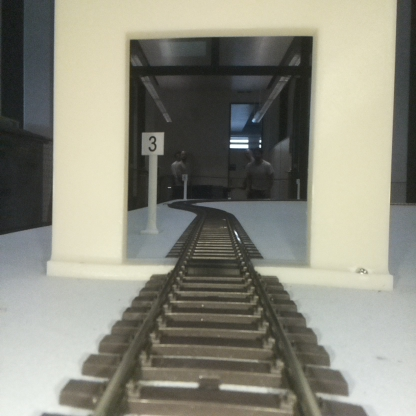white-info-3: (142, 132, 163, 233)
